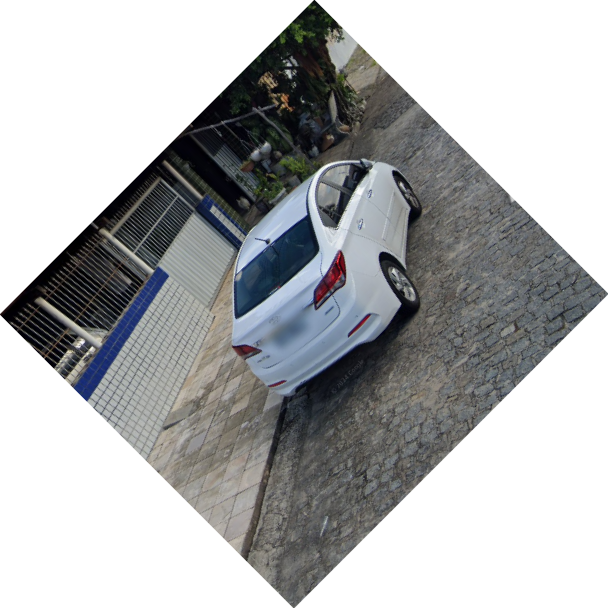car: (229, 158, 421, 399)
